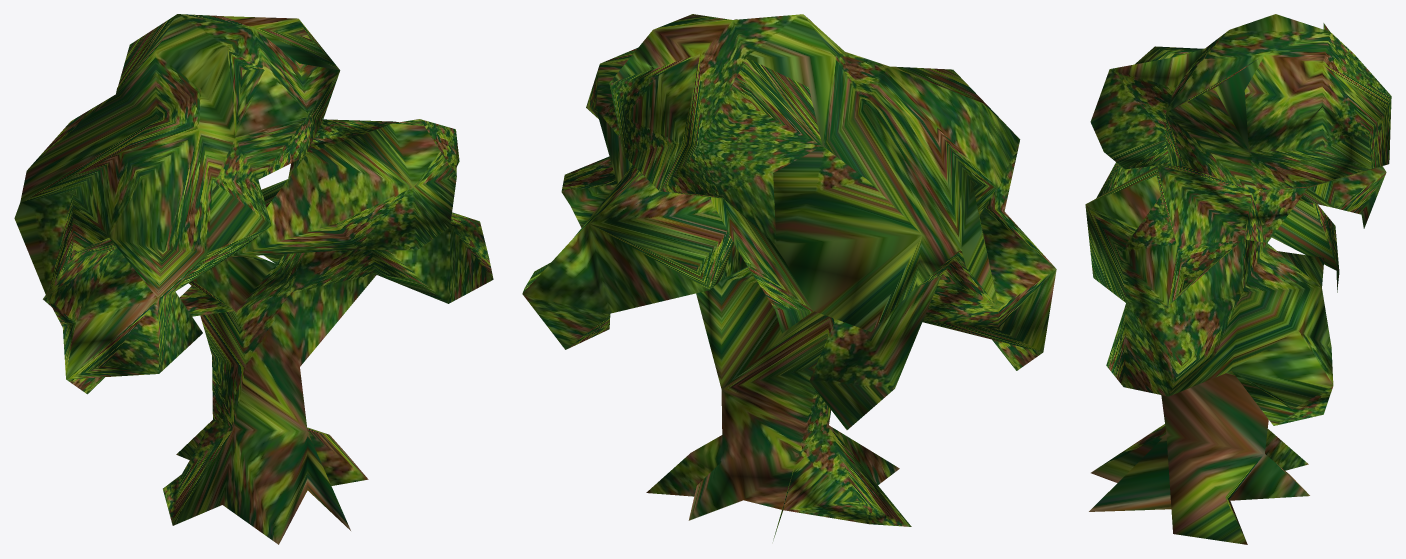
Rendered from tree-oak-lod.glb.
3 renders of one model, left to right at view 1: azimuth 30°, elevation 25°; view 2: azimuth 150°, elevation 25°; view 3: azimuth 270°, elevation 25°, orthographic. The views are drawn at different scales.
Visible parts, largest first — view 1: tree-oak-lod; view 2: tree-oak-lod; view 3: tree-oak-lod.
Part boxes in pixels (x1,y1,x2,y2): tree-oak-lod: (14, 14, 493, 544); tree-oak-lod: (522, 14, 1056, 540); tree-oak-lod: (1085, 14, 1391, 544).
Bounding box in the file's own units: 9.42 × 9.58 × 5.85.
1 material, 1 textured.
